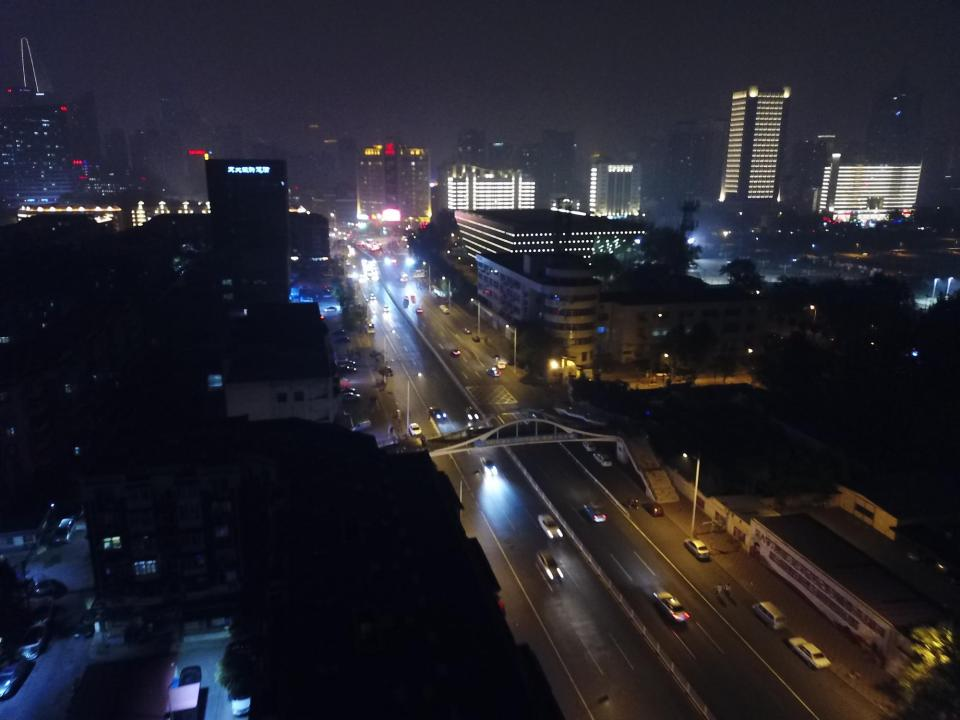car: (787, 636, 830, 670), (652, 590, 691, 623), (0, 660, 32, 700), (225, 675, 253, 717), (536, 550, 564, 580), (536, 512, 564, 540), (30, 571, 54, 598), (683, 537, 710, 560), (583, 502, 606, 523), (479, 455, 497, 477), (641, 499, 664, 516), (592, 450, 612, 467), (581, 436, 597, 453), (428, 405, 446, 420), (338, 391, 361, 402), (334, 387, 359, 397), (464, 405, 480, 420), (334, 363, 357, 373), (334, 356, 356, 366), (410, 422, 423, 437), (334, 335, 352, 344), (486, 367, 502, 376), (332, 329, 346, 337), (450, 348, 462, 357), (494, 360, 507, 368), (462, 326, 472, 334), (472, 335, 480, 342)
van: (750, 600, 787, 630), (56, 518, 75, 543)
